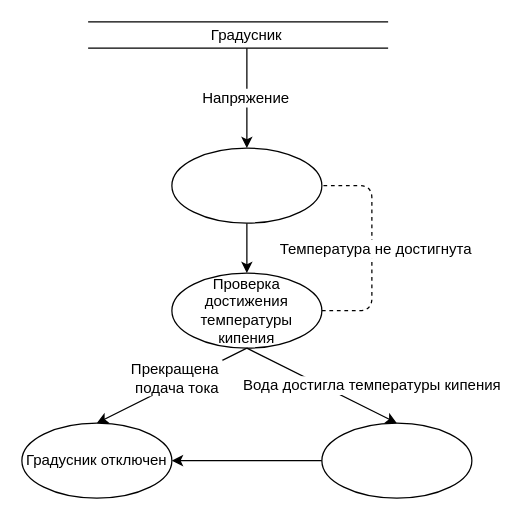
The diagram is 523 pixels wide and 520 high, and some of its shapes have lost their labels. Here are the shapes that lost their labels. From the top down, the centre of each, then its label:
At point (246, 185): "Градусник запущен".
At point (396, 460): "Подать сигнал".
